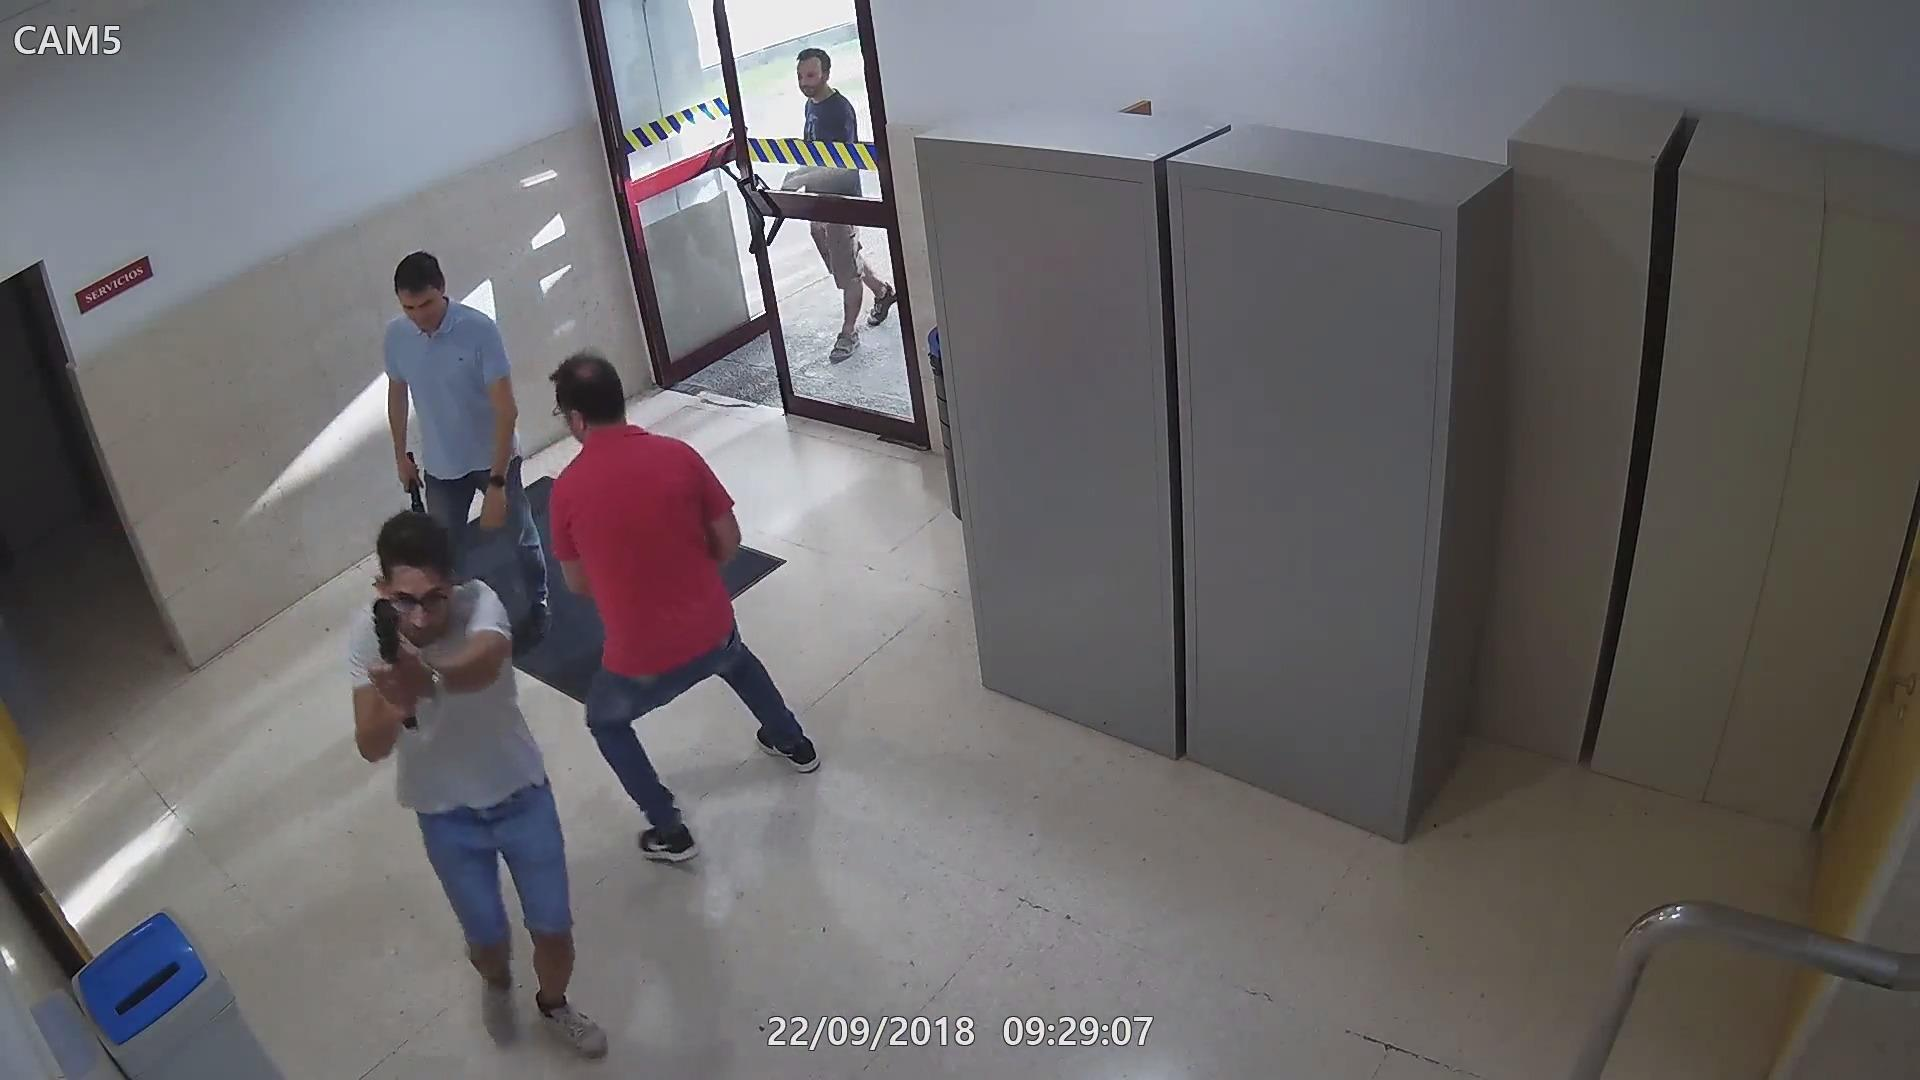Handgun: (775, 165, 795, 189)
